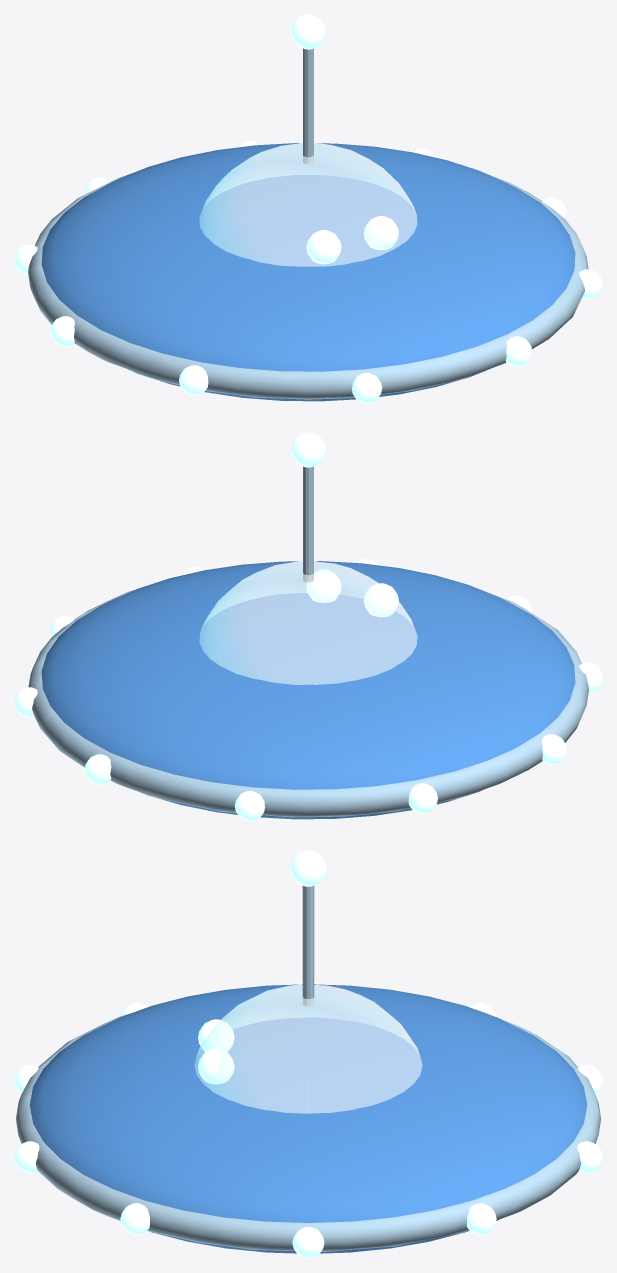
Rendered from copier-lo.glb.
3 renders of one model, top to bottom at view 1: azimuth 30°, elevation 25°; view 2: azimuth 150°, elevation 25°; view 3: azimuth 270°, elevation 25°, orthographic. The views are drawn at different scales.
Visible parts, largest first — view 1: CP_Saucer, CP_Dome, CP_Rim, CP_Antenna, CP_AntTip, CP_EyeL, CP_EyeR, CP_Light7, CP_Light6, CP_Light8, CP_Light5, CP_Light9; view 2: CP_Saucer, CP_Dome, CP_Rim, CP_Antenna, CP_AntTip, CP_EyeL, CP_EyeR, CP_Light3, CP_Light4, CP_Light2, CP_Light5, CP_Light1; view 3: CP_Saucer, CP_Dome, CP_Rim, CP_Antenna, CP_AntTip, CP_EyeR, CP_EyeL, CP_Light0, CP_Light9, CP_Light1, CP_Light2, CP_Light8.
Part boxes in pixels (x1,y1,x2,y2): CP_Saucer: [41, 143, 575, 401]; CP_Dome: [199, 143, 417, 266]; CP_Rim: [28, 173, 588, 399]; CP_Antenna: [303, 48, 313, 164]; CP_AntTip: [291, 14, 325, 49]; CP_EyeL: [306, 230, 341, 264]; CP_EyeR: [363, 216, 398, 250]; CP_Light7: [352, 372, 382, 403]; CP_Light6: [179, 365, 208, 395]; CP_Light8: [505, 336, 532, 366]; CP_Light5: [50, 316, 74, 346]; CP_Light9: [579, 269, 602, 299]; CP_Saucer: [41, 561, 575, 819]; CP_Dome: [199, 561, 417, 684]; CP_Rim: [28, 590, 588, 817]; CP_Antenna: [303, 466, 313, 582]; CP_AntTip: [291, 432, 325, 467]; CP_EyeL: [364, 583, 398, 617]; CP_EyeR: [306, 570, 341, 602]; CP_Light3: [234, 790, 264, 821]; CP_Light4: [408, 783, 437, 813]; CP_Light2: [84, 754, 111, 784]; CP_Light5: [541, 734, 566, 764]; CP_Light1: [14, 687, 37, 717]; CP_Saucer: [29, 984, 587, 1253]; CP_Dome: [194, 984, 422, 1113]; CP_Rim: [16, 1010, 600, 1251]; CP_Antenna: [302, 886, 314, 1006]; CP_AntTip: [290, 850, 326, 886]; CP_EyeR: [198, 1048, 234, 1084]; CP_EyeL: [198, 1019, 234, 1051]; CP_Light0: [292, 1226, 324, 1258]; CP_Light9: [120, 1203, 149, 1235]; CP_Light1: [467, 1203, 496, 1235]; CP_Light2: [577, 1141, 602, 1173]; CP_Light8: [14, 1141, 39, 1173].
Size of the model in its own units: 2.68 by 1.63 by 2.56.
